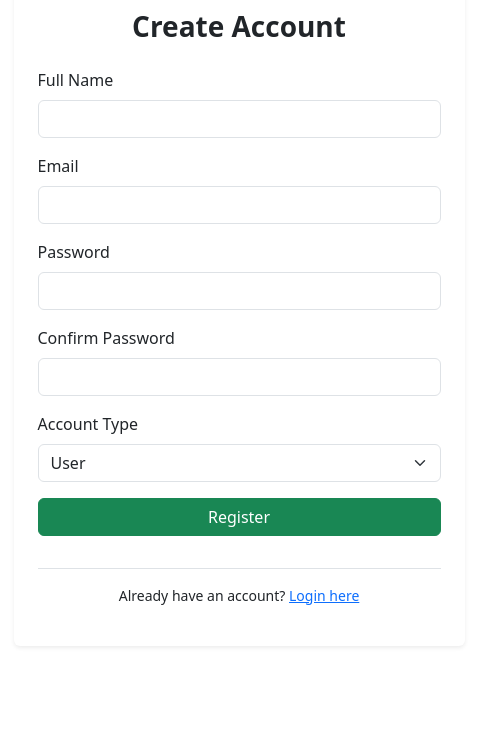
RegisterPage › shows error when passwords do not match
Fill fields
Type "Test User" into the field with test id "name-input" at (239, 119), box x1=38 y1=100 x2=440 y2=138
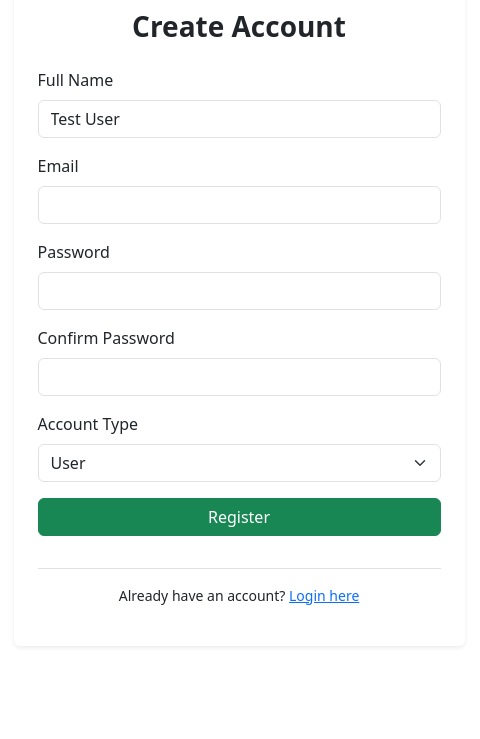
Type "test@example.com" into the field with test id "email-input" at (239, 205), box x1=38 y1=186 x2=440 y2=224
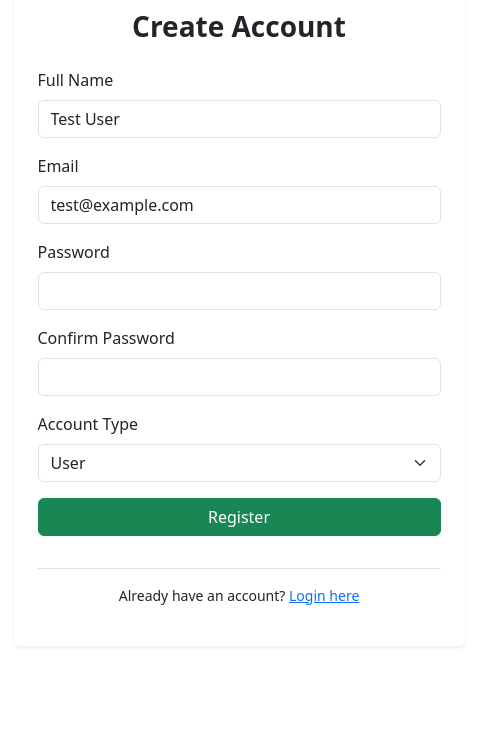
Type "TestPassword123!" into the password field with test id "password-input" at (239, 291), box x1=38 y1=272 x2=440 y2=310
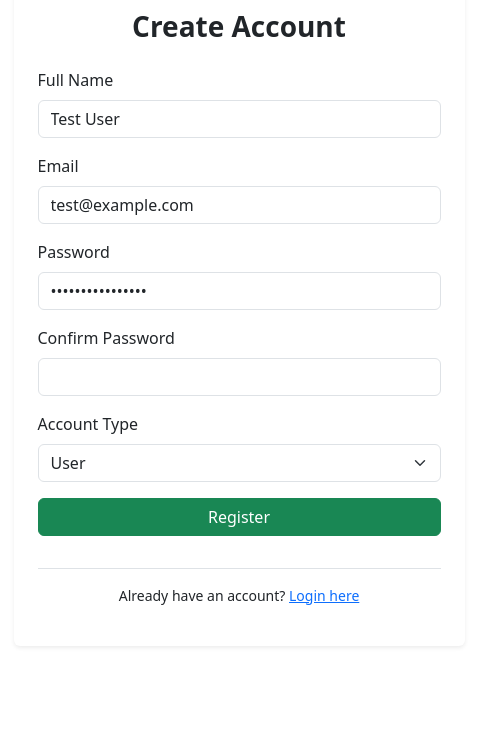
Type "WrongPassword456!" into the password field with test id "confirm-password-input" at (239, 377), box x1=38 y1=358 x2=440 y2=396
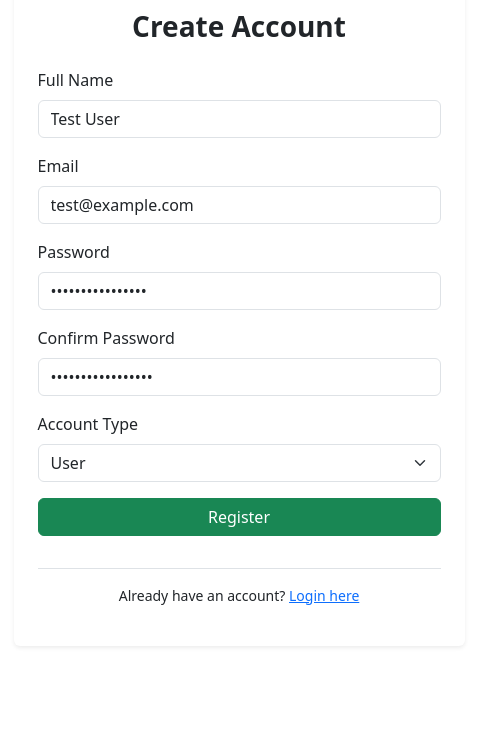
Click the button with test id "register-button" at (239, 517), box x1=38 y1=498 x2=440 y2=536
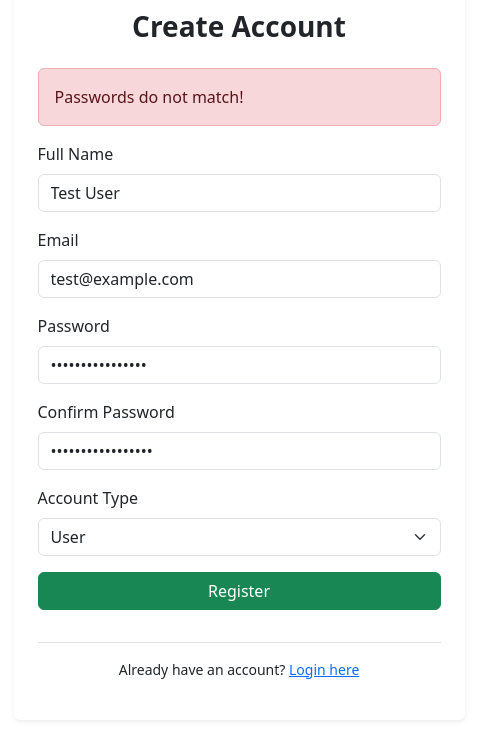
Expected: the text with test id "register-error" shows "Passwords do not match", x1=54 y1=86 x2=244 y2=108
